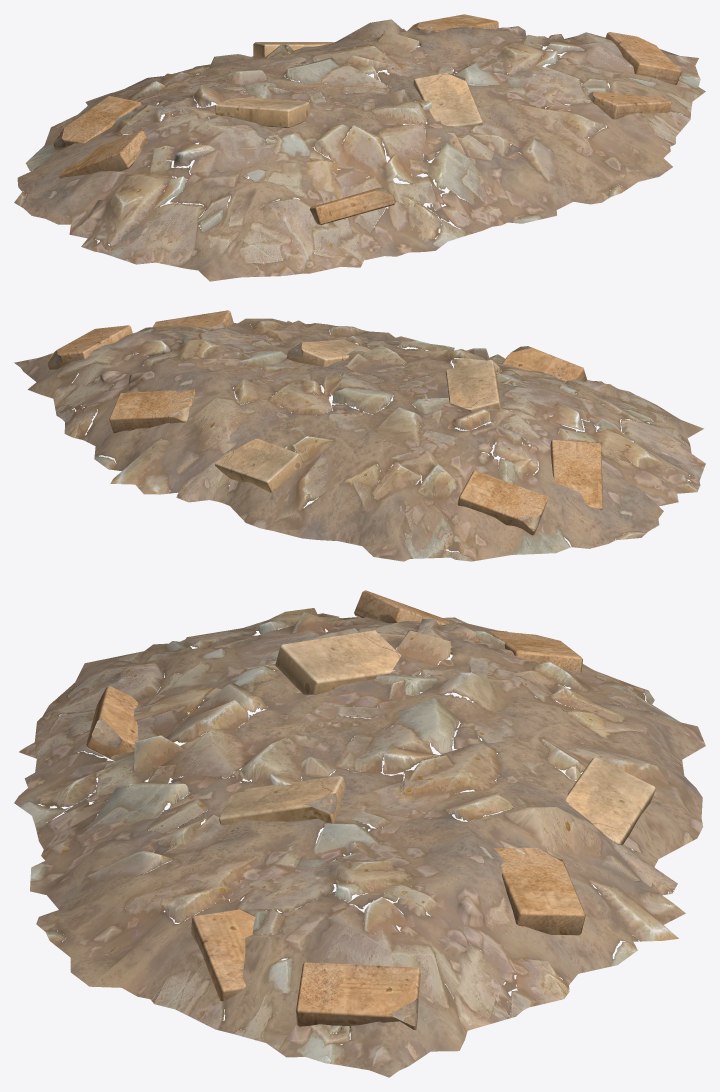
The picture shows the model from 3 angles, top to bottom: view 1: azimuth 30°, elevation 25°; view 2: azimuth 150°, elevation 25°; view 3: azimuth 270°, elevation 25°; orthographic projection. The views are drawn at different scales.
Parts seen in each view (by area): view 1: SM_Magic_Institute_Rubble_01v1_LOD0; view 2: SM_Magic_Institute_Rubble_01v1_LOD0; view 3: SM_Magic_Institute_Rubble_01v1_LOD0.
Part boxes in pixels (left/top/right/bottom): SM_Magic_Institute_Rubble_01v1_LOD0: left=14, top=14, right=705, bottom=281; SM_Magic_Institute_Rubble_01v1_LOD0: left=14, top=310, right=705, bottom=561; SM_Magic_Institute_Rubble_01v1_LOD0: left=14, top=590, right=705, bottom=1077.
Bounding box in the file's own units: 5.67 × 0.6961 × 3.6.
2 materials, 2 textured.
